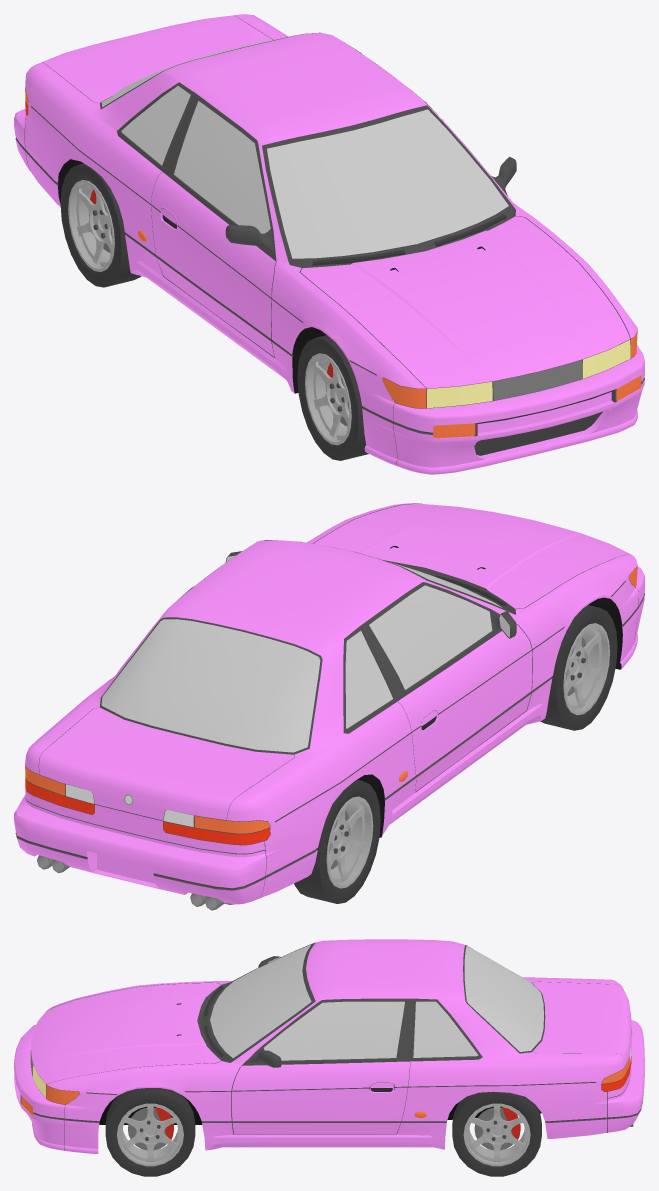
The model's file is car007.glb.
3 renders of one model, top to bottom at view 1: azimuth 30°, elevation 25°; view 2: azimuth 150°, elevation 25°; view 3: azimuth 270°, elevation 25°, orthographic. The views are drawn at different scales.
Visible parts, largest first — view 1: car007; view 2: car007; view 3: car007.
Part boxes in pixels (left/top/right/bottom): car007: left=14, top=14, right=644, bottom=474; car007: left=14, top=503, right=644, bottom=910; car007: left=14, top=939, right=644, bottom=1176.
Size of the model in its own units: 5.14 by 3.87 by 13.35.
1 material, 1 textured.
